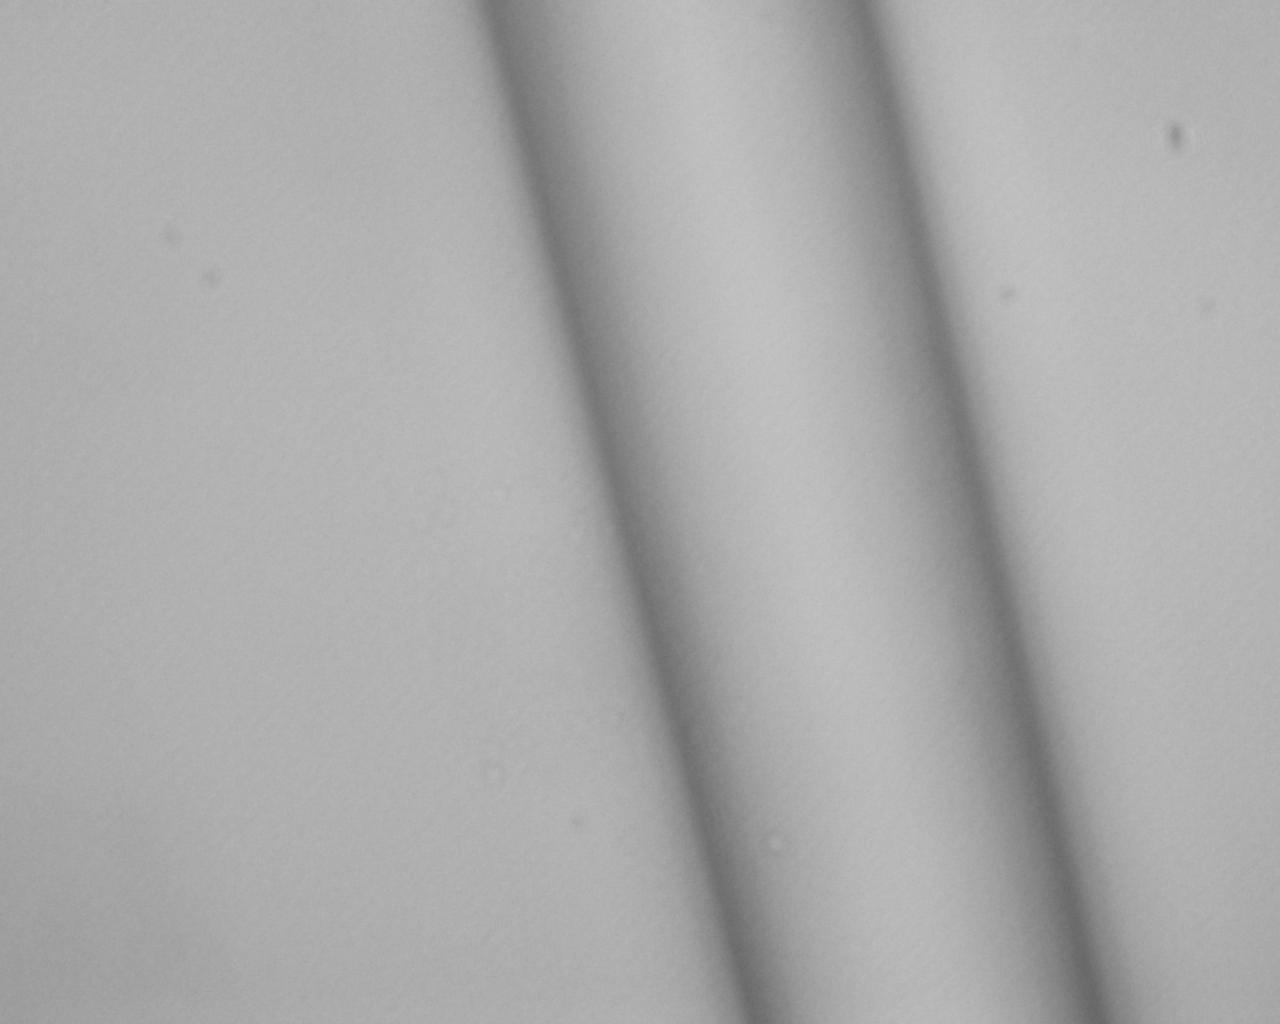fiber: (550, 471, 1280, 929), (550, 230, 1280, 430), (0, 471, 222, 970)
